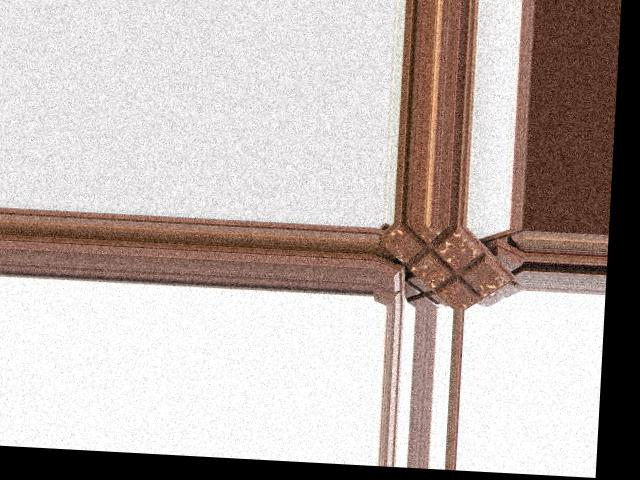chocolate: (377, 221, 507, 311)
